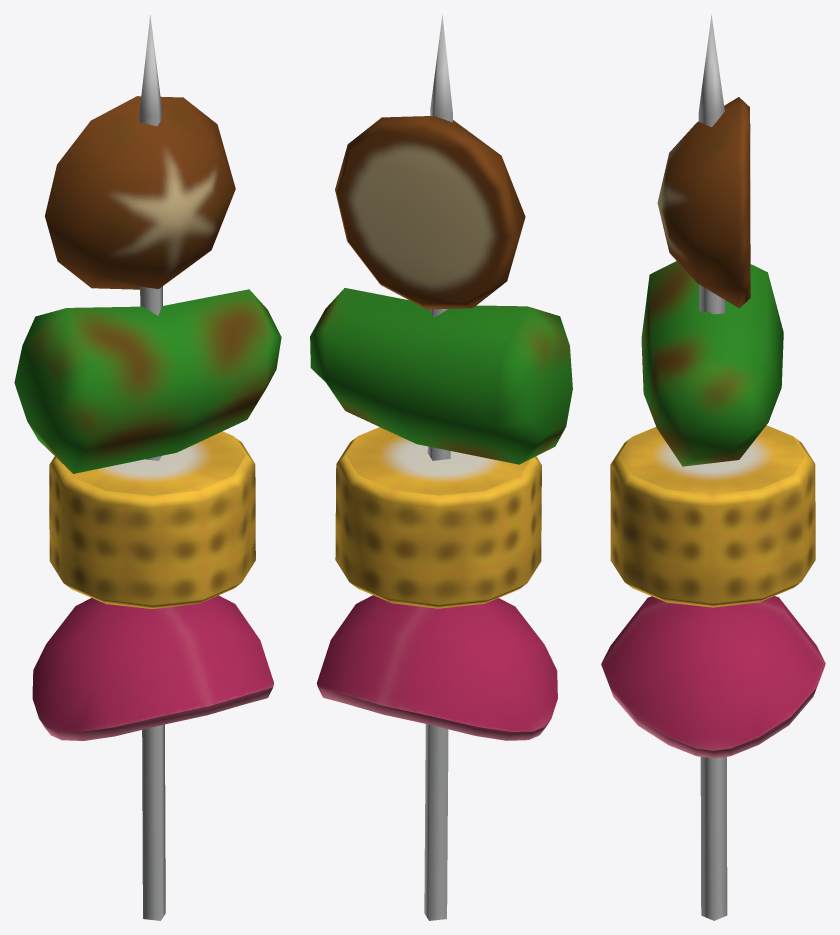
The model's file is a_shuwu_shaokaojia_kaochuan_01.fbx.
3 renders of one model, left to right at view 1: azimuth 30°, elevation 25°; view 2: azimuth 150°, elevation 25°; view 3: azimuth 270°, elevation 25°, orthographic.
Parts seen in each view (by area): view 1: m_shuwu_shaokaojia_kaochuan_01; view 2: m_shuwu_shaokaojia_kaochuan_01; view 3: m_shuwu_shaokaojia_kaochuan_01.
Part boxes in pixels (x1,y1,x2,y2): m_shuwu_shaokaojia_kaochuan_01: [14, 15, 281, 920]; m_shuwu_shaokaojia_kaochuan_01: [310, 14, 572, 920]; m_shuwu_shaokaojia_kaochuan_01: [601, 14, 825, 920].
Bounding box in the file's own units: 14.73 × 55.16 × 12.5.
